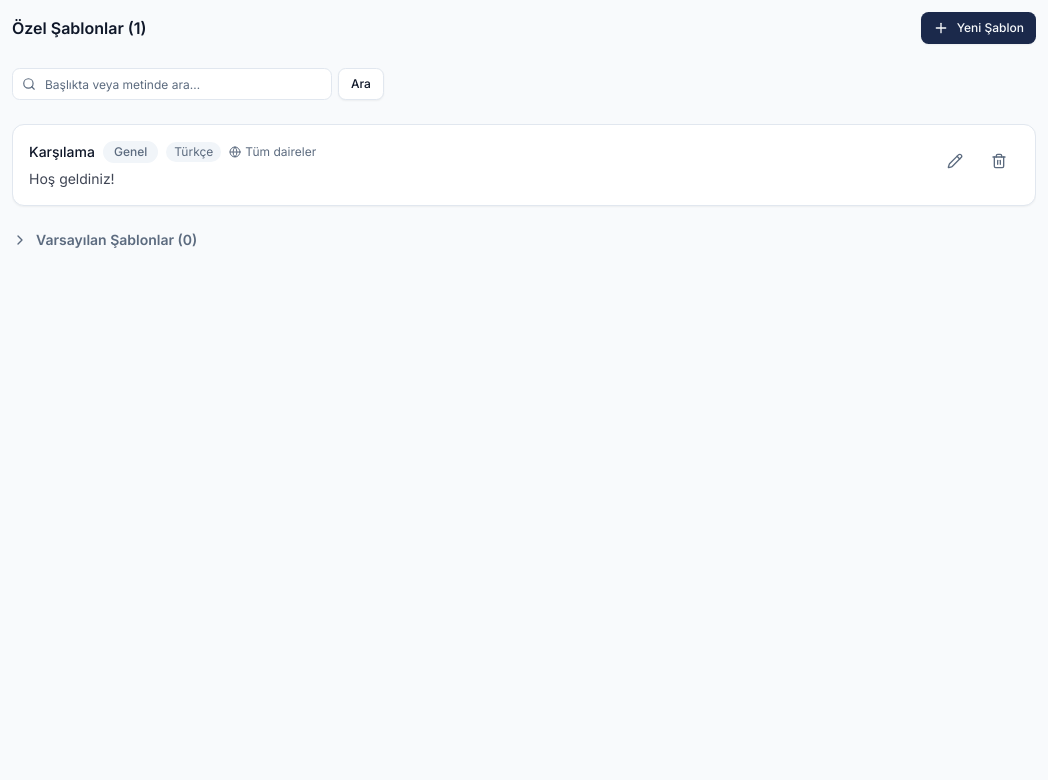
şablon düzenleme — tam metin ayrı okumadan, sürüm ön şartı (H1) › 🚨 409 → sunucunun metni görünür, form açık kalır ve yazılan kaybolmaz; liste yenilenmez
The width and height of the screenshot is (1048, 780).
Click the button named "Düzenle": x=955, y=161 [935,141,975,181]
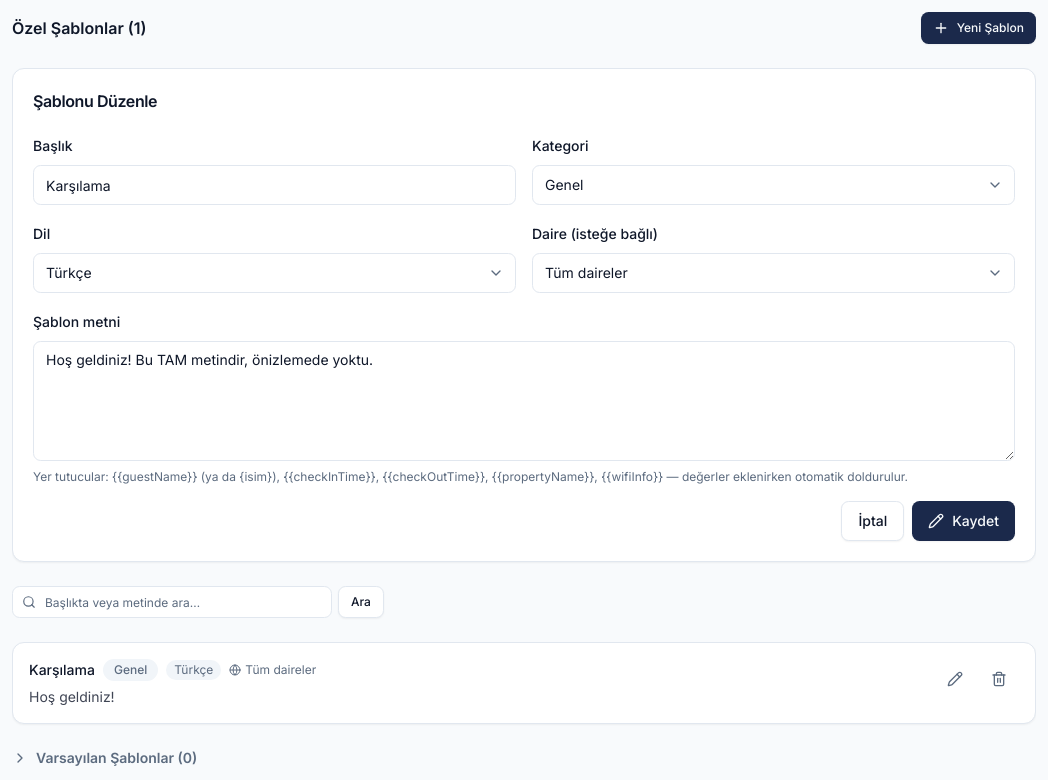
Replace the text in the text box labelled "Şablon metni" with "Benim yeni metnim": x=524, y=401 [33,341,1015,461]
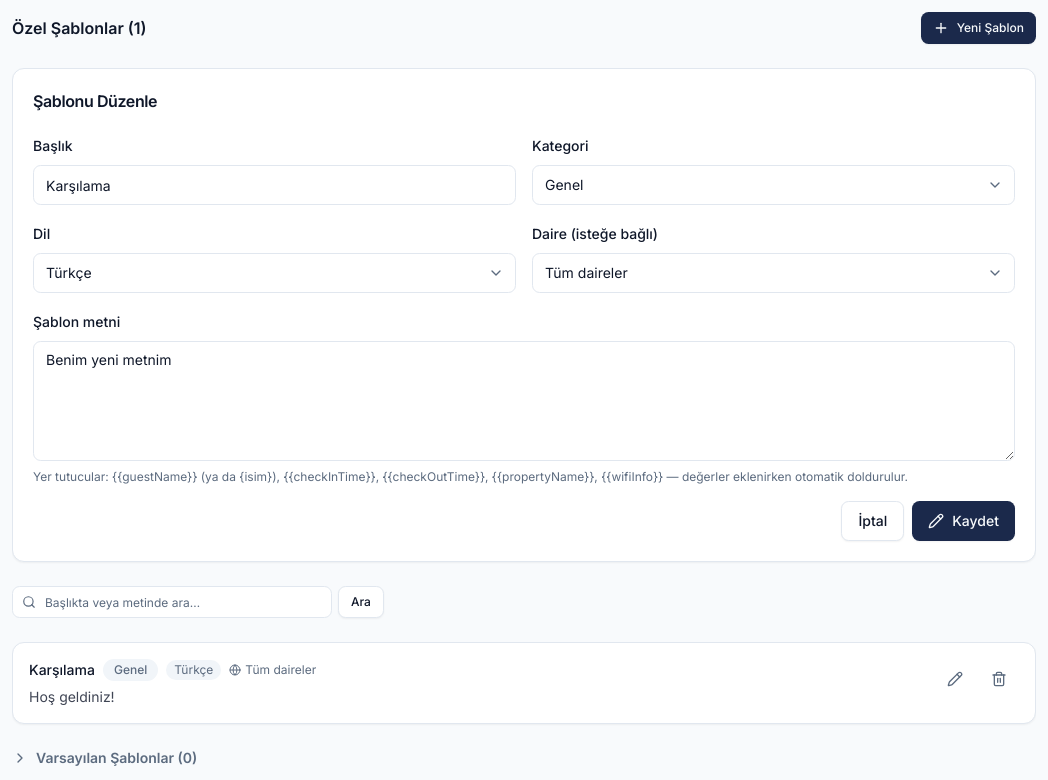
Click the button "Kaydet": x=964, y=521 [912,501,1015,541]
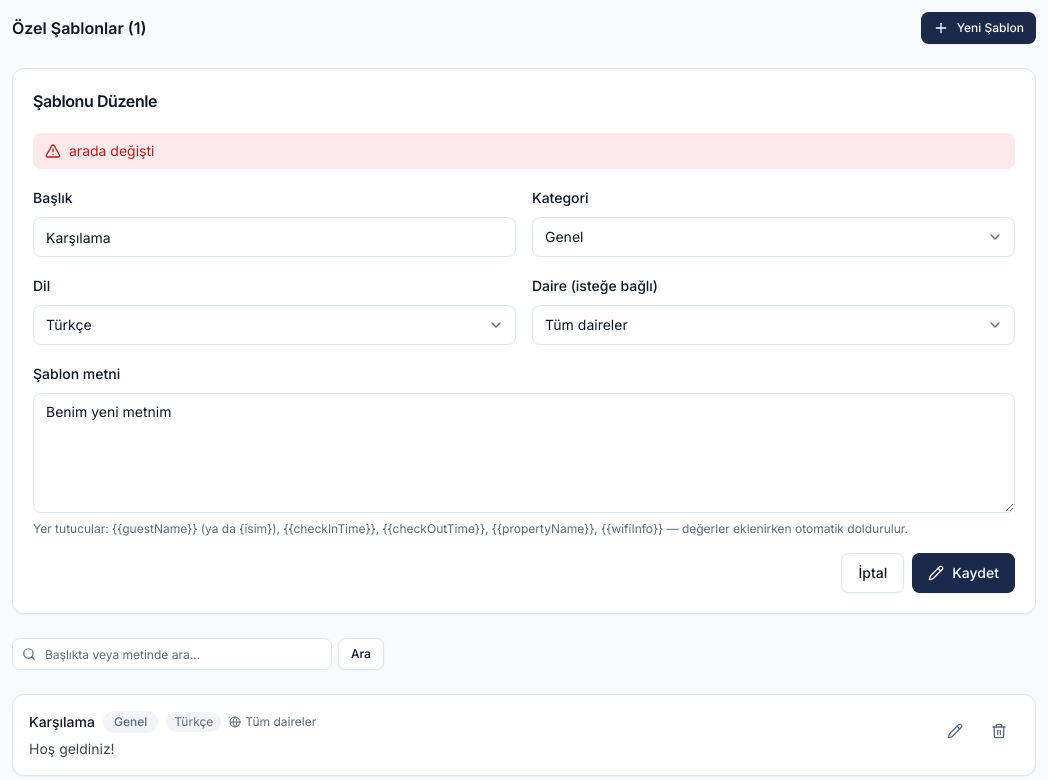
Now the text "arada değişti" is shown, box [69,141,154,161]
